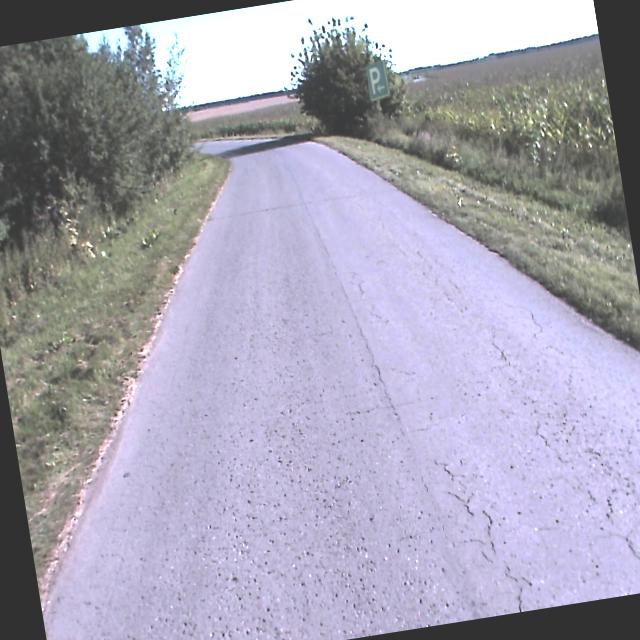road: (41, 139, 640, 640)
